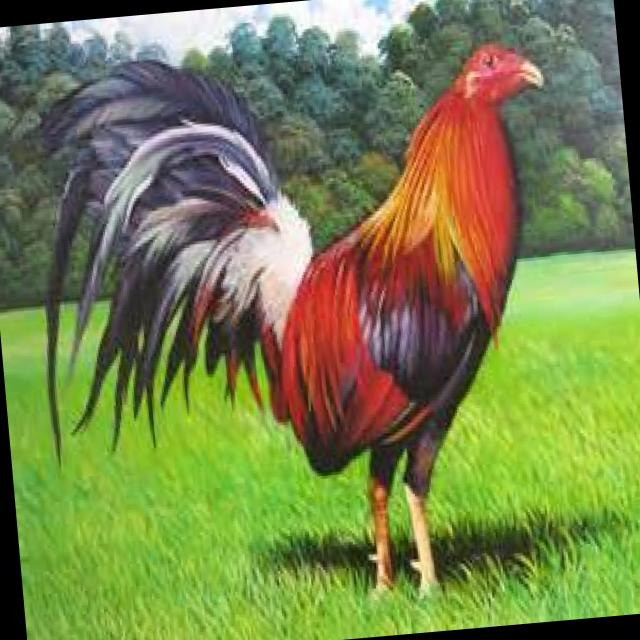animal: (19, 20, 592, 630)
